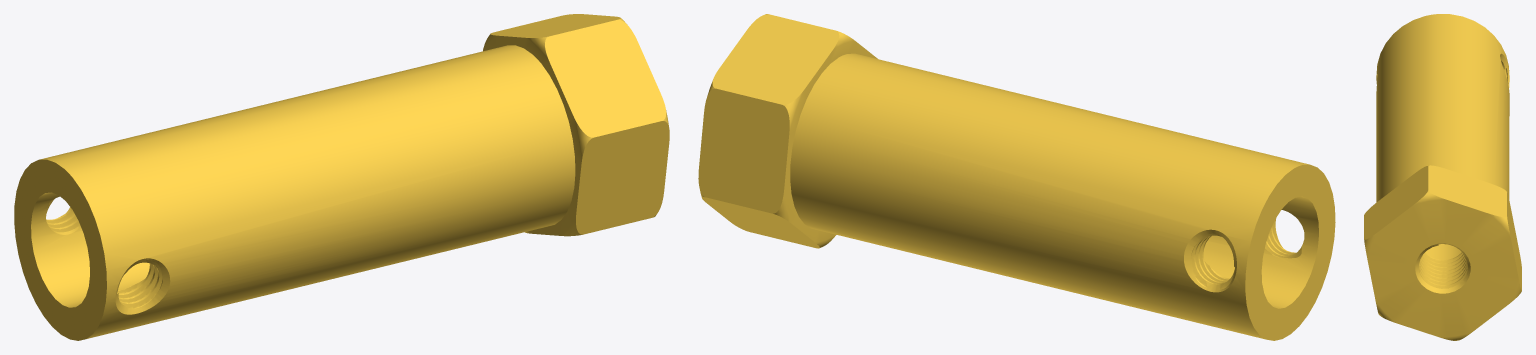
File: motor_hub_2.dae
3 renders of one model, left to right at view 1: azimuth 30°, elevation 25°; view 2: azimuth 150°, elevation 25°; view 3: azimuth 270°, elevation 25°, orthographic. The views are drawn at different scales.
Parts seen in each view (by area): view 1: node0; view 2: node0; view 3: node0.
Part boxes in pixels (x1,y1,x2,y2): node0: (14, 14, 669, 340); node0: (698, 14, 1335, 340); node0: (1364, 14, 1521, 340).
Size of the model in its own units: 0.038 by 0.0136 by 0.013.
